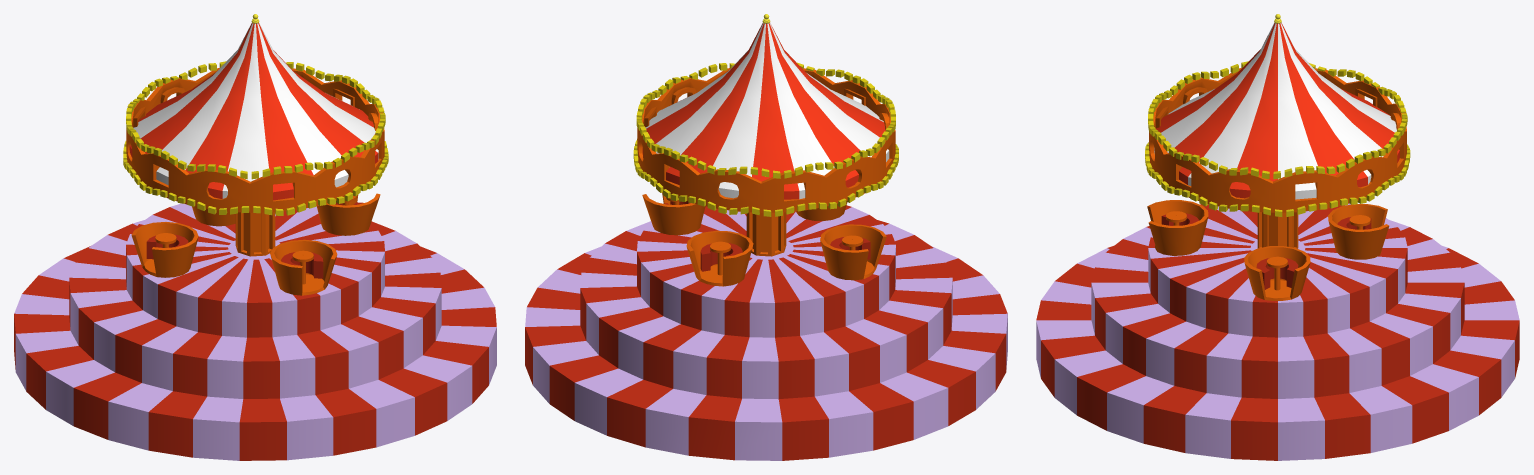
File: Calesita.fbx
The picture shows the model from 3 angles, left to right: view 1: azimuth 30°, elevation 25°; view 2: azimuth 150°, elevation 25°; view 3: azimuth 270°, elevation 25°; orthographic projection.
Visible parts, largest first — view 1: Cylinder.014; view 2: Cylinder.014; view 3: Cylinder.014.
Part boxes in pixels (left/top/right/bottom): Cylinder.014: left=14, top=14, right=496, bottom=460; Cylinder.014: left=525, top=14, right=1007, bottom=460; Cylinder.014: left=1036, top=14, right=1519, bottom=460.
Size of the model in its own units: 1358 by 1068 by 1358.
Materials: 8 (6 with a texture image).
